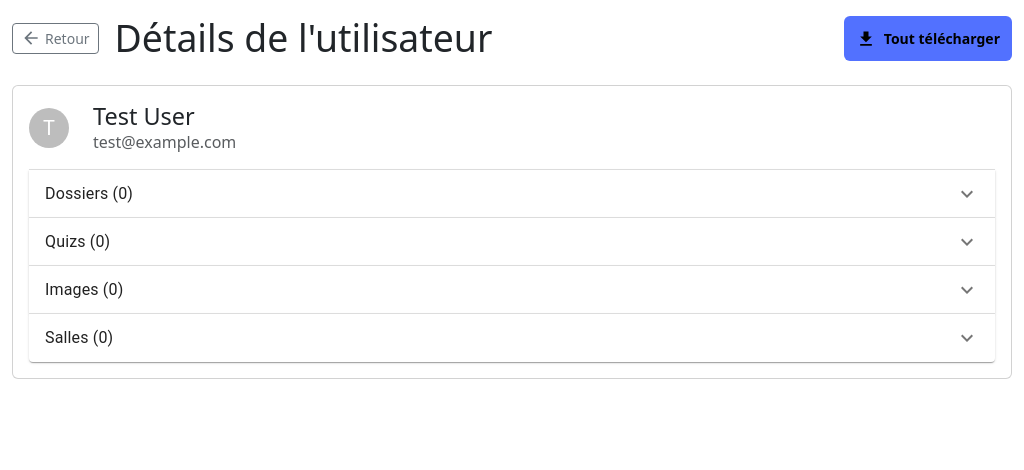
Test: AdminUserDetails › download all shows error notice on failure
This screenshot has width=1024, height=470.
Step 1. Click the button "Tout télécharger" → (928,38), box [844,16,1012,61]
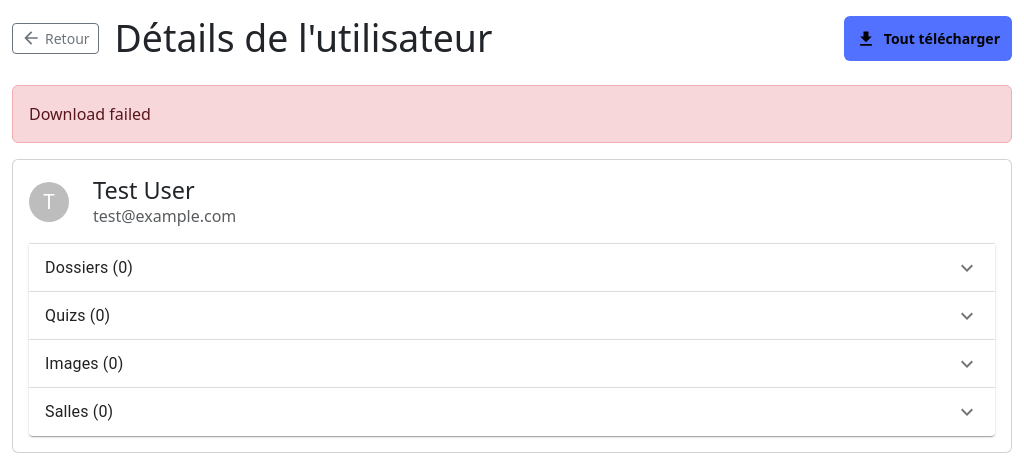
Expected: the text "Download failed" is shown, [12,85,1012,143]
